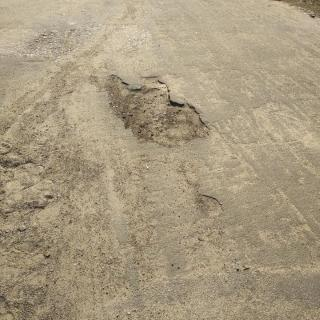pothole: (106, 75, 212, 148), (200, 194, 224, 218)
